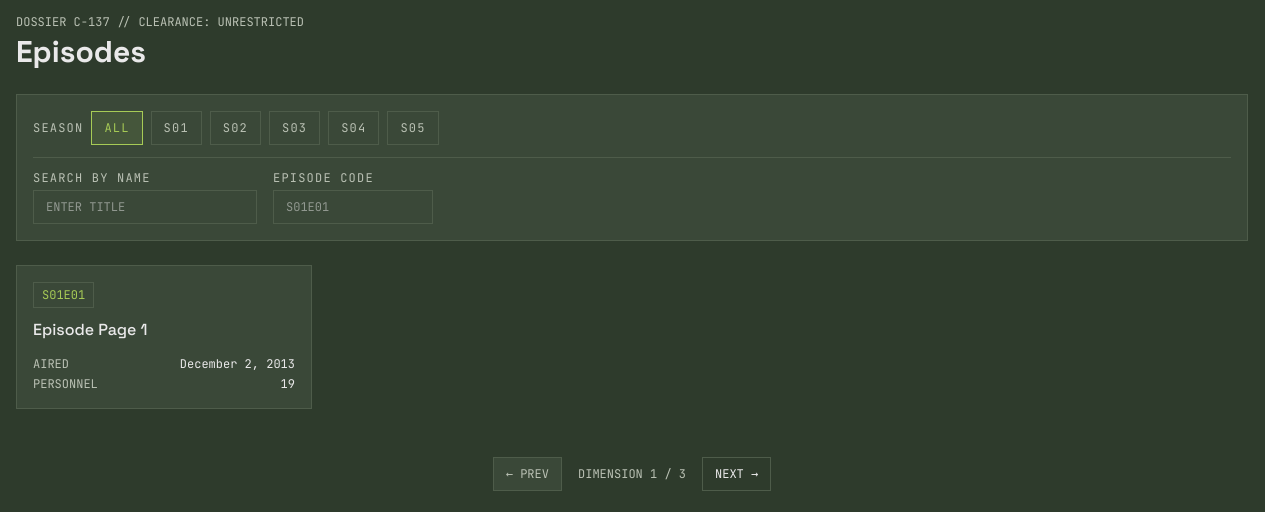
it: EpisodesPage › advances the page when the next control is used
The width and height of the screenshot is (1265, 512).
Expected: the heading "Episode Page 1" is shown, [33,319,147,340]
Click the button "NEXT →" at (737, 474), box [702,457,771,491]
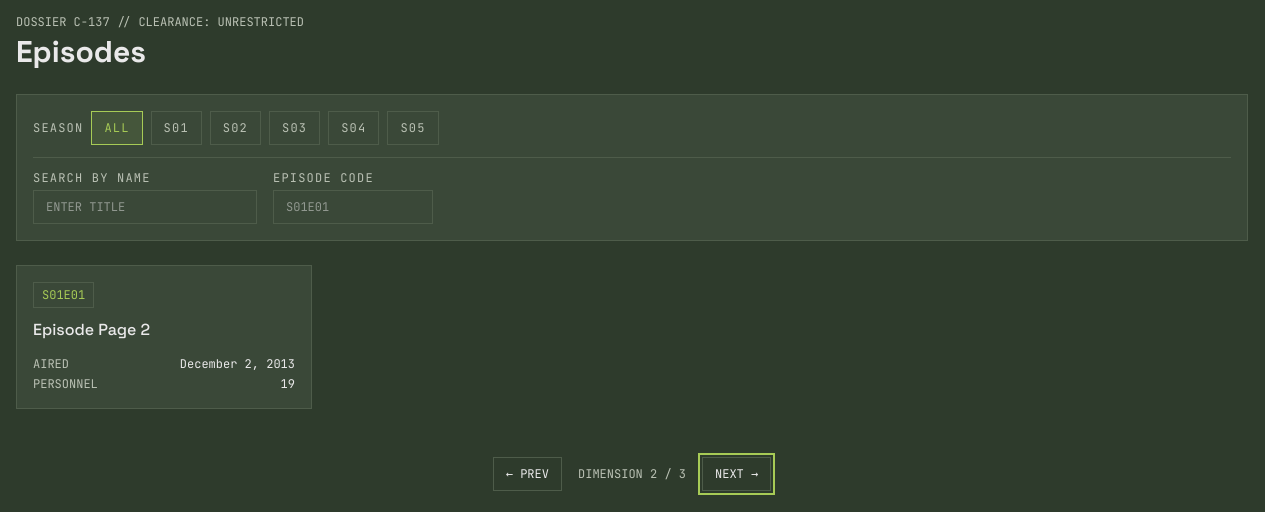
Now the heading "Episode Page 2" is shown, box [33,319,150,340]
